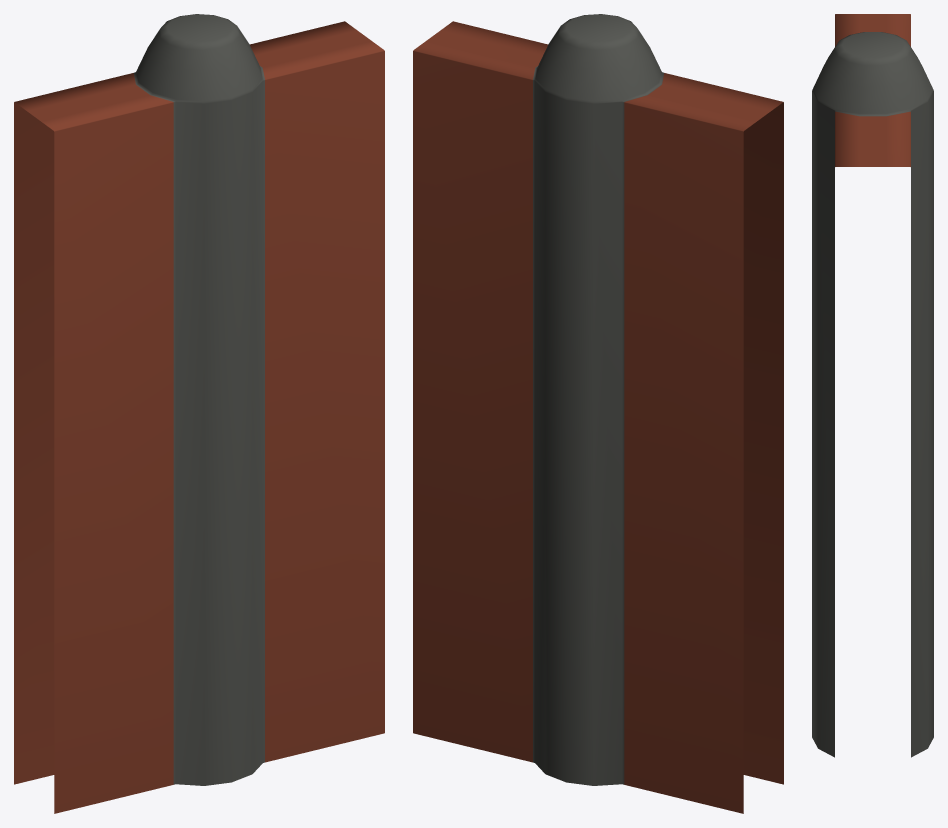
The model's file is FloodWallExtraxtraSmall.fbx.
The picture shows the model from 3 angles, left to right: view 1: azimuth 30°, elevation 25°; view 2: azimuth 150°, elevation 25°; view 3: azimuth 270°, elevation 25°; orthographic projection. The views are drawn at different scales.
Visible parts, largest first — view 1: Cylinder.005; view 2: Cylinder.005; view 3: Cylinder.005.
Part boxes in pixels (x1,y1,x2,y2): Cylinder.005: [14, 14, 384, 813]; Cylinder.005: [413, 14, 783, 813]; Cylinder.005: [812, 14, 933, 757].
Bounding box in the file's own units: 79.07 × 167 × 26.62.
